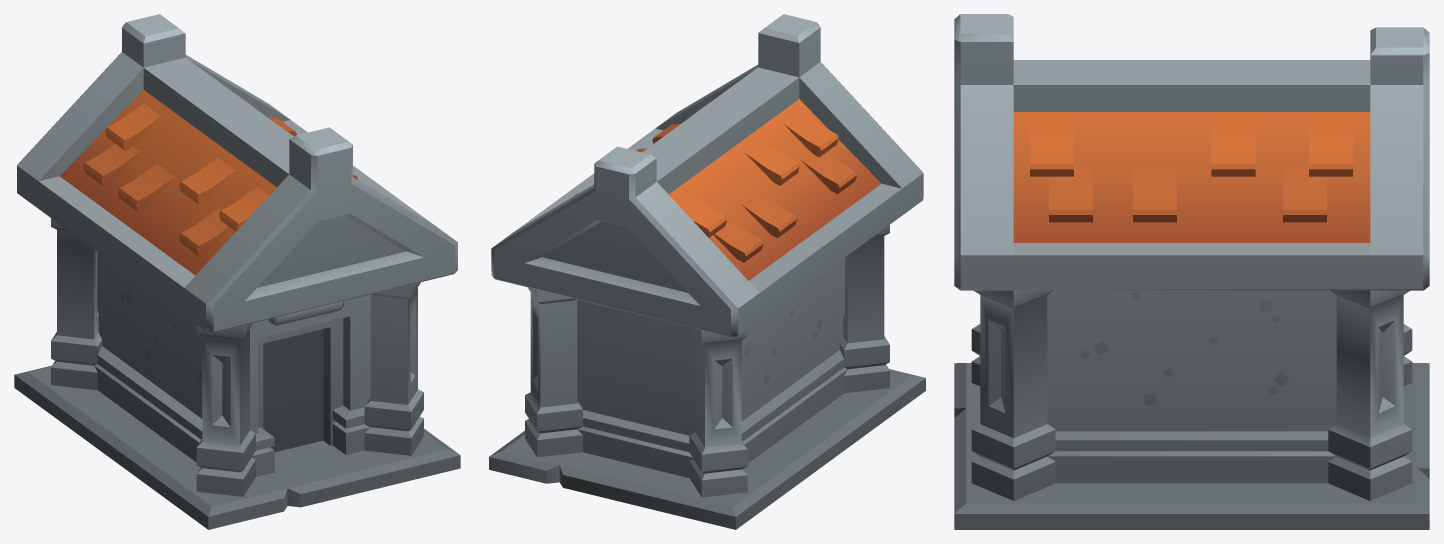
File: crypt.obj
The picture shows the model from 3 angles, left to right: view 1: azimuth 30°, elevation 25°; view 2: azimuth 150°, elevation 25°; view 3: azimuth 270°, elevation 25°; orthographic projection. The views are drawn at different scales.
Parts seen in each view (by area): view 1: crypt_Cube.514; view 2: crypt_Cube.514; view 3: crypt_Cube.514.
Part boxes in pixels (box(x1,y1,x2,y2)): crypt_Cube.514: box(14, 14, 460, 529); crypt_Cube.514: box(489, 14, 925, 529); crypt_Cube.514: box(954, 14, 1429, 529).
Size of the model in its own units: 6 by 8 by 8.
Materials: 1 (1 with a texture image).
